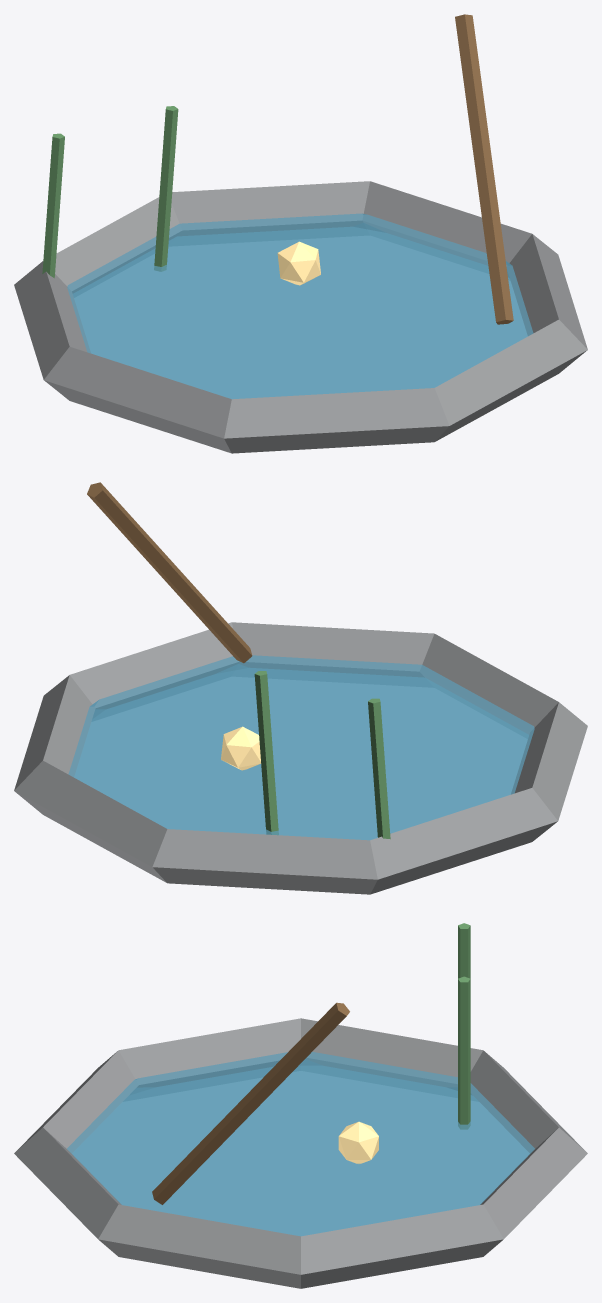
The model's file is harthmere_river_fishing_pool.lod1.glb.
3 renders of one model, top to bottom at view 1: azimuth 30°, elevation 25°; view 2: azimuth 150°, elevation 25°; view 3: azimuth 270°, elevation 25°, orthographic. The views are drawn at different scales.
Bounding box in the file's own units: 2.18 × 1.1 × 2.18.
